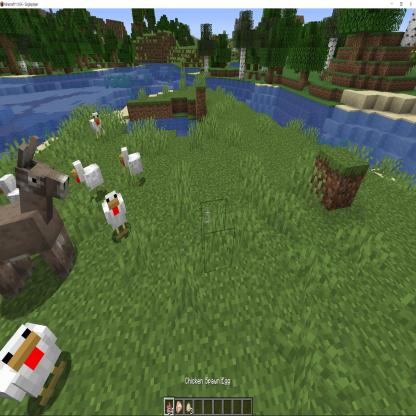minecraft-pigs: (188, 139, 250, 272)
